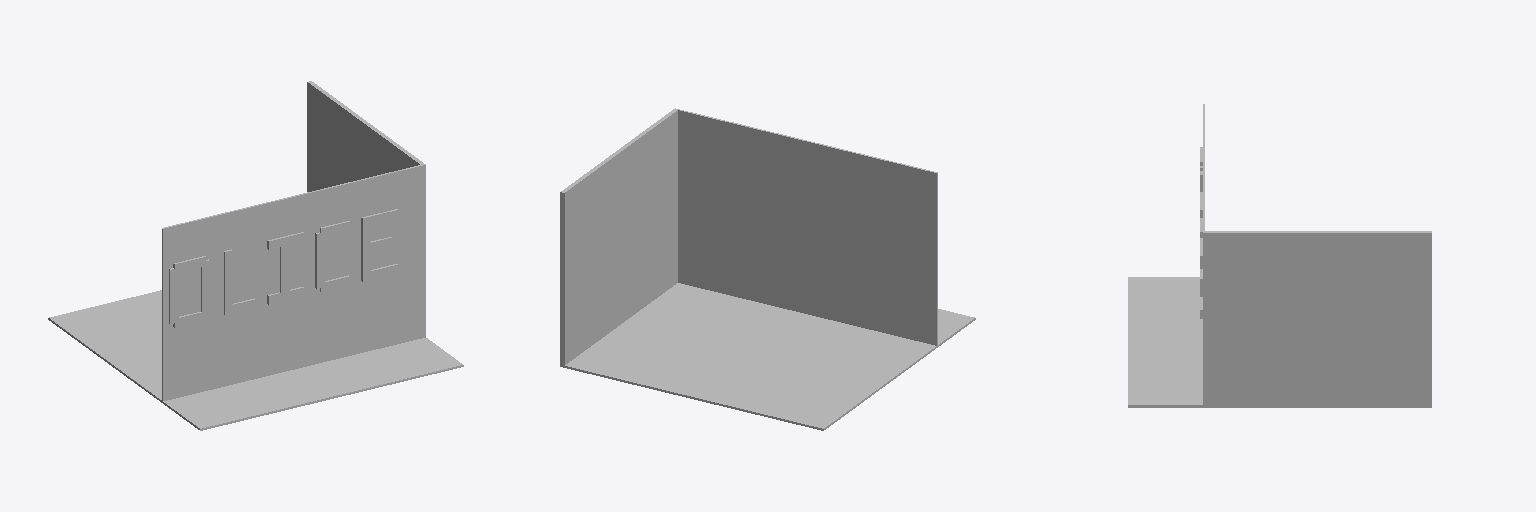
The model's file is 2x2 second-3.obj.
The picture shows the model from 3 angles: view 1: azimuth 30°, elevation 25°; view 2: azimuth 150°, elevation 25°; view 3: azimuth 270°, elevation 25°; orthographic projection.
Visible parts, largest first — view 1: 2x2 second-3; view 2: 2x2 second-3; view 3: 2x2 second-3.
Boxes of the visible parts, x1=… form: 2x2 second-3: x1=48, y1=81, x2=463, y2=430; 2x2 second-3: x1=560, y1=108, x2=975, y2=430; 2x2 second-3: x1=1128, y1=104, x2=1431, y2=407.
Bounding box in the file's own units: 126 × 80 × 126.